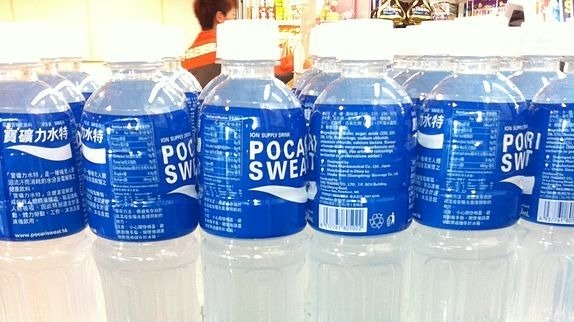POCARI SWEAT: (80, 22, 199, 322), (409, 21, 522, 321), (204, 21, 305, 321), (305, 20, 406, 320), (1, 19, 79, 319)
